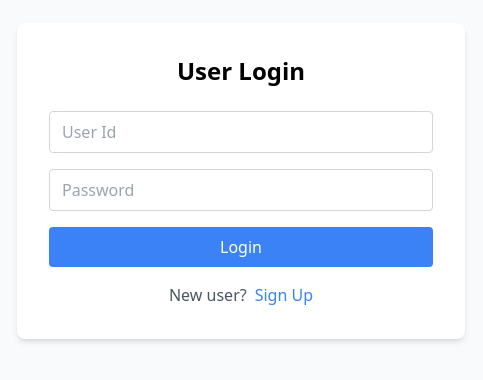
Login Component › should display valid result message for correct credentials
In the field with placeholder "User Id": (241, 132) top-left (49, 111), bottom-right (433, 153), type "admin"
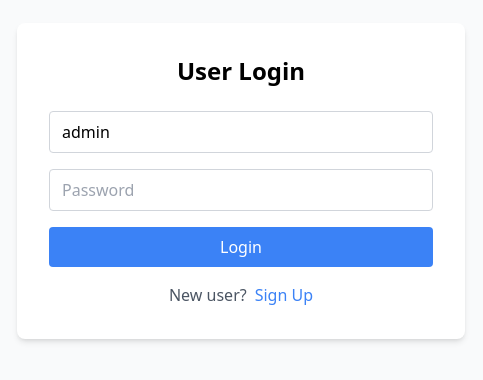
In the password field with placeholder "Password": (241, 190) top-left (49, 169), bottom-right (433, 211), type "admin123"
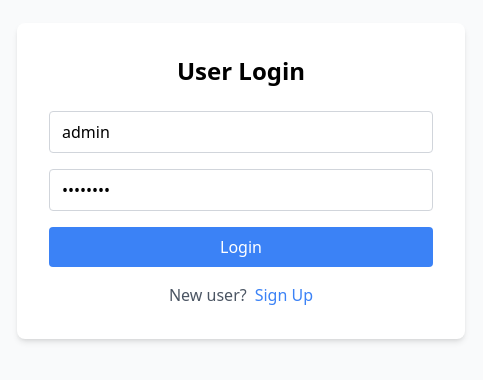
Click the button "Login": (241, 247) top-left (49, 227), bottom-right (433, 267)
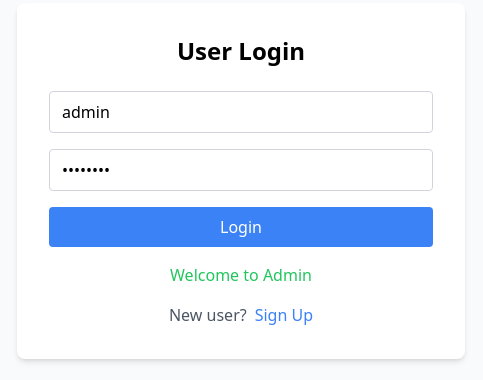
Check: the text "Welcome to Admin" is shown, box top-left (170, 264), bottom-right (312, 286)
